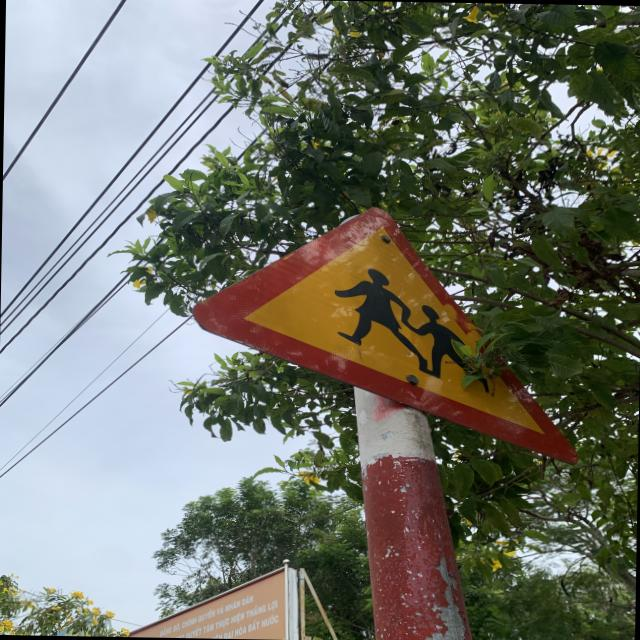Vong_Xuyen: (186, 200, 584, 468)
